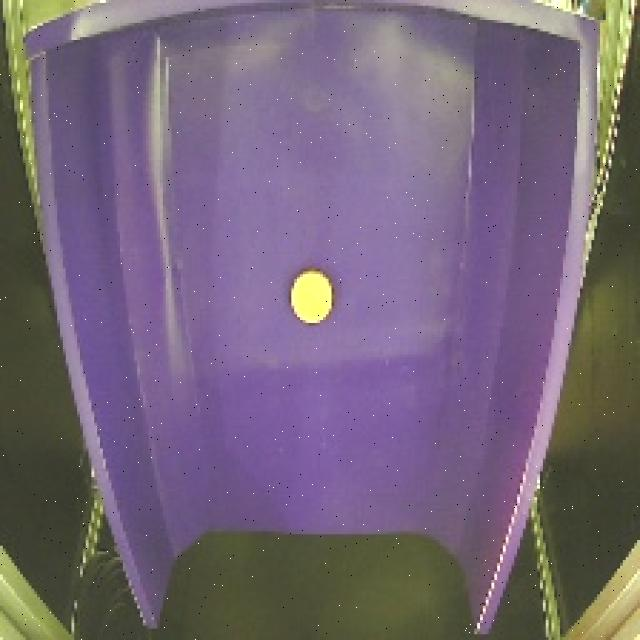small: (288, 266, 340, 326)
